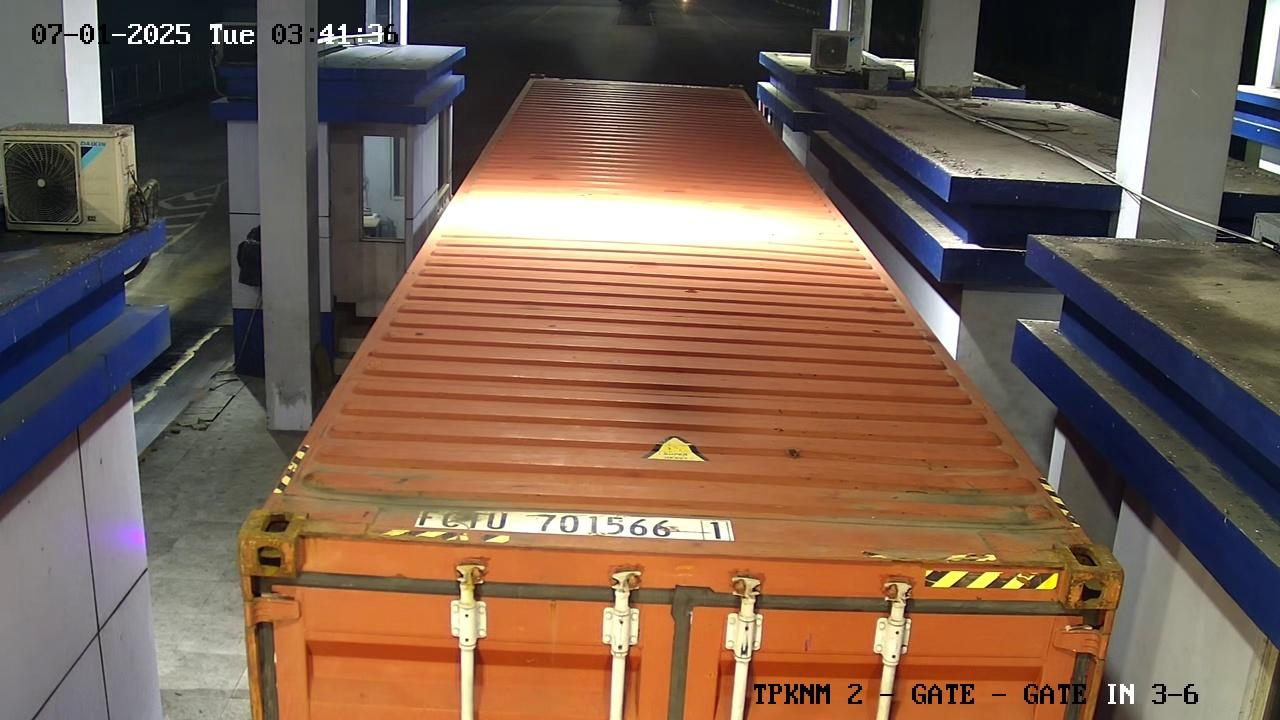Container_ID: (388, 496, 759, 555)
